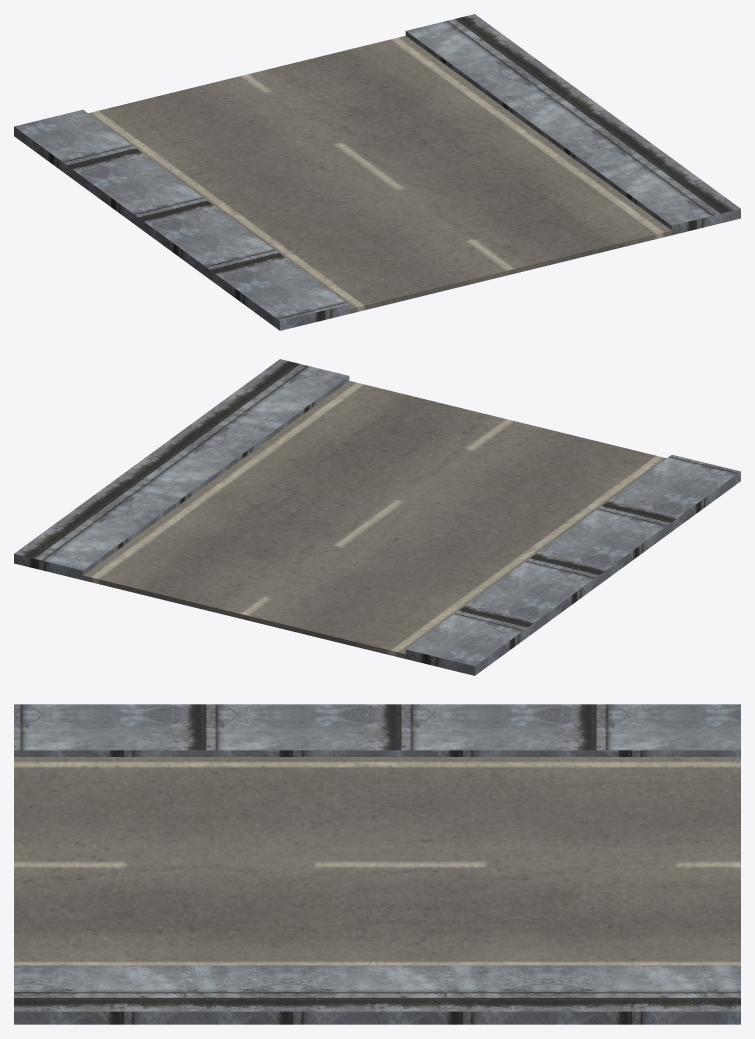
Rendered from Urban_Road4Straight_Model.fbx.
The picture shows the model from 3 angles, top to bottom: view 1: azimuth 30°, elevation 25°; view 2: azimuth 150°, elevation 25°; view 3: azimuth 270°, elevation 25°; orthographic projection. The views are drawn at different scales.
Visible parts, largest first — view 1: Urban_Road4Straight_Mesh; view 2: Urban_Road4Straight_Mesh; view 3: Urban_Road4Straight_Mesh.
Part boxes in pixels (x1,y1,x2,y2): Urban_Road4Straight_Mesh: (14,14,740,330); Urban_Road4Straight_Mesh: (14,359,740,675); Urban_Road4Straight_Mesh: (14,704,740,1024).
Size of the model in its own units: 16 by 0.32 by 16.
